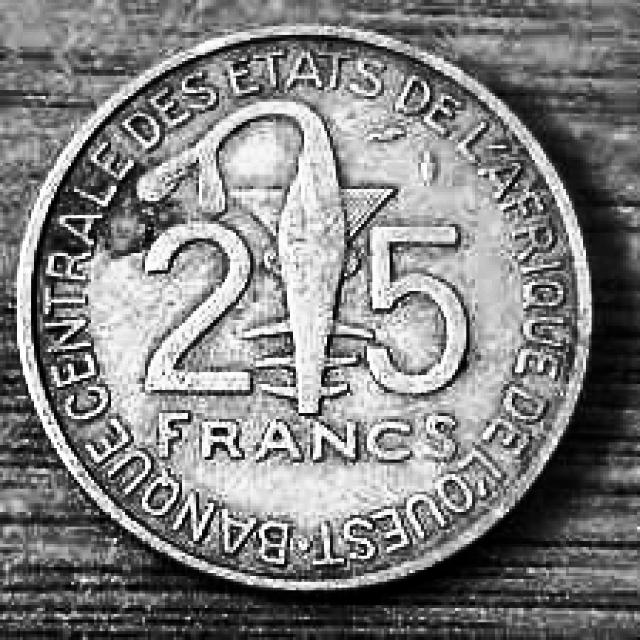juroom derem: (19, 31, 589, 589)
